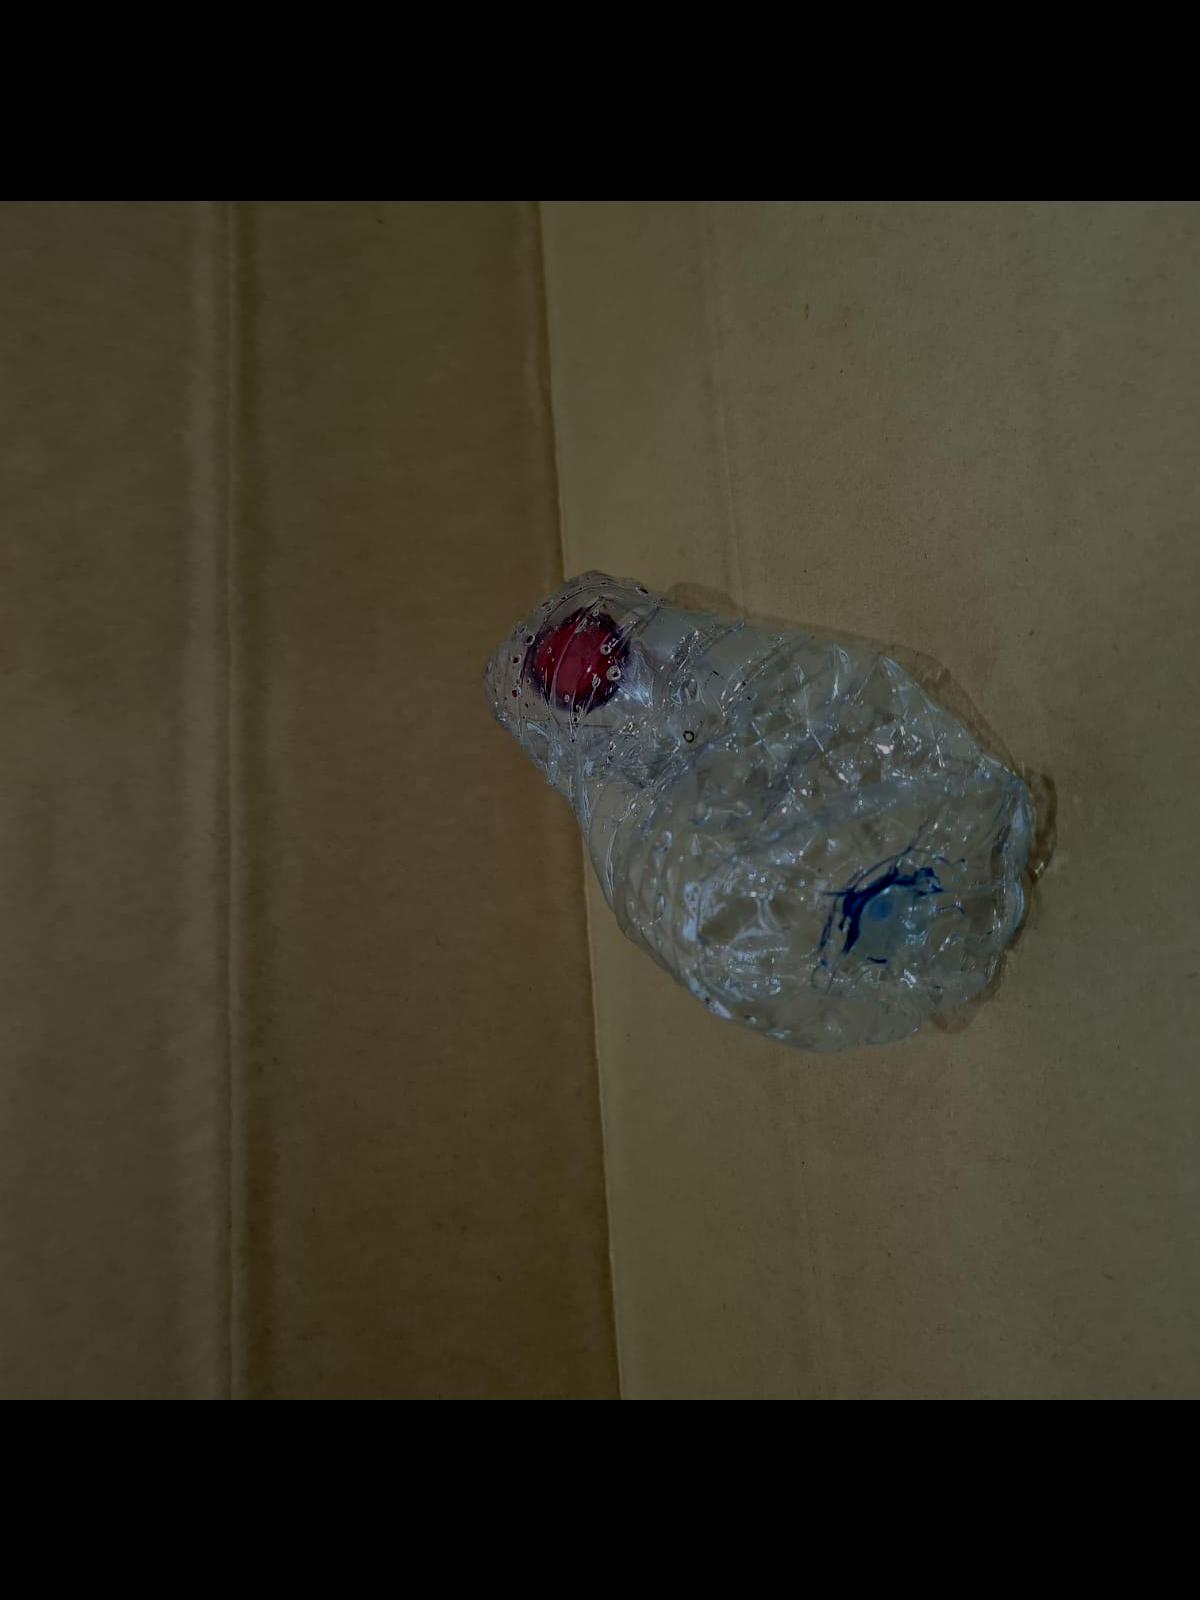bottle: (514, 535, 1047, 1049)
